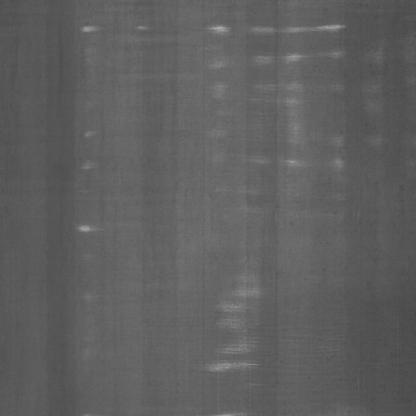waist_folding: (72, 31, 376, 312)
